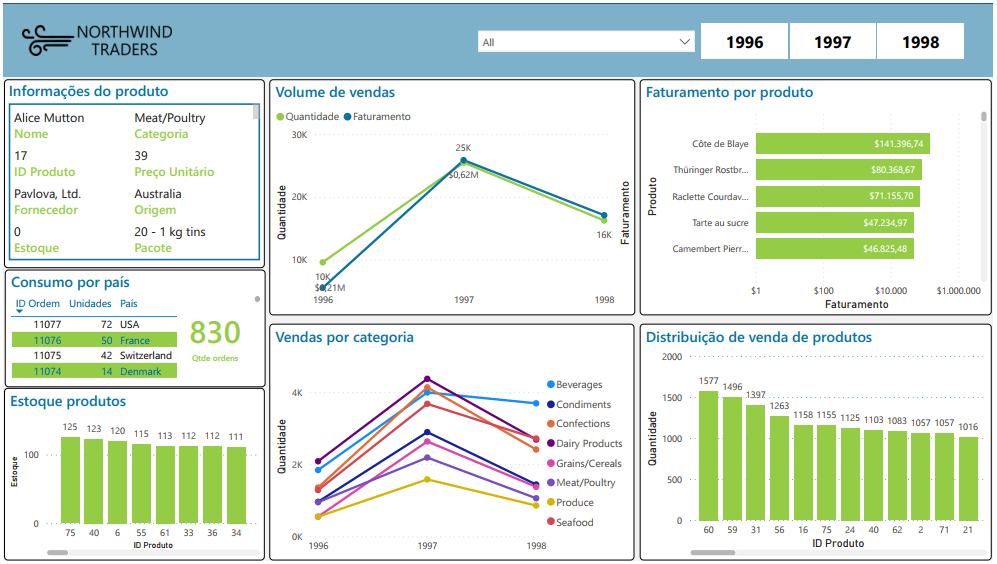

The dashboard page shown, as its layout file describes it:
{"tool":"powerbi","page":{"name":"Produtos","canvas":[1280,720],"ordinal":1},"visuals":[{"type":"tableEx","title":"Consumo por país","fields":{"Values":["order_details.order_id","Sum(order_details.quantity)","order_infos.country"]},"box":[2.7,344,337.3,152],"z":0},{"type":"basicShape","box":[0,0,1280.3,94.7],"z":1000},{"type":"image","box":[20.6,15.1,203.1,64.5],"z":2000},{"type":"slicer","title":"Ano","fields":{"Values":["orders.order_date.Variation.Date Hierarchy.Year"]},"box":[878.2,17.8,388.3,60.4],"z":3000},{"type":"multiRowCard","title":"Informações do produto","fields":{"Values":["products.product_name","categories.category_name","order_details.product_id","Sum(products.unit_price)","suppliers.company_name","suppliers.country","Sum(products.units_in_stock)","products.quantity_per_unit"]},"box":[1.9,98.2,337.5,244.1],"z":4000},{"type":"card","title":"fdg","fields":{"Values":["Count(order_details.order_id)"]},"box":[225.8,380.8,98.3,98.3],"z":5000},{"type":"lineChart","title":"Volume de vendas","fields":{"Y":["Sum(order_details.quantity)"],"Category":["orders.order_date.Variation.Date Hierarchy.Year"],"Y2":["Sum(order_details.totalValue)"]},"box":[345.3,98.2,472.7,305],"z":6000},{"type":"lineChart","title":"Vendas por categoria","fields":{"Y":["Sum(order_details.quantity)"],"Series":["categories.category_name"],"Category":["orders.order_date.Variation.Date Hierarchy.Year","orders.order_date.Variation.Date Hierarchy.Quarter","orders.order_date.Variation.Date Hierarchy.Month","orders.order_date.Variation.Date Hierarchy.Day"]},"box":[345.3,414.3,471.7,305.4],"z":7000},{"type":"columnChart","title":"Distribuição de venda de produtos","fields":{"Category":["order_details.product_id"],"Y":["Sum(order_details.quantity)"]},"box":[823.8,414.3,455,305.4],"z":8000},{"type":"barChart","title":"Faturamento por produto","fields":{"Category":["products.product_name"],"Y":["Sum(order_details.totalValue)"]},"box":[823.8,98.2,455,305],"z":9000},{"type":"slicer","fields":{"Values":["products.product_name"]},"box":[605,25,300,55],"z":10000},{"type":"columnChart","title":"Estoque produtos","fields":{"Category":["products.product_id"],"Y":["Sum(products.units_in_stock)"]},"box":[1.9,497,337.5,222.7],"z":11001}]}

Visuals, with their boxes in screenshot pixels (x1, y1, x2, y2), scaled from the page's 1280x720 canvas onto the 997x564 screenshot:
"Consumo por país" tableEx: l=2, t=269, r=265, b=389
basicShape: l=0, t=0, r=996, b=74
image: l=16, t=12, r=174, b=62
"Ano" slicer: l=684, t=14, r=986, b=61
"Informações do produto" multiRowCard: l=1, t=77, r=264, b=268
"fdg" card: l=176, t=298, r=252, b=375
"Volume de vendas" lineChart: l=269, t=77, r=637, b=316
"Vendas por categoria" lineChart: l=269, t=325, r=636, b=563
"Distribuição de venda de produtos" columnChart: l=642, t=325, r=996, b=563
"Faturamento por produto" barChart: l=642, t=77, r=996, b=316
slicer - products.product_name: l=471, t=20, r=705, b=63
"Estoque produtos" columnChart: l=1, t=389, r=264, b=563
